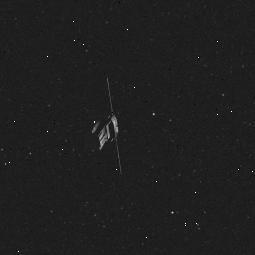soho: (76, 74, 136, 174)
